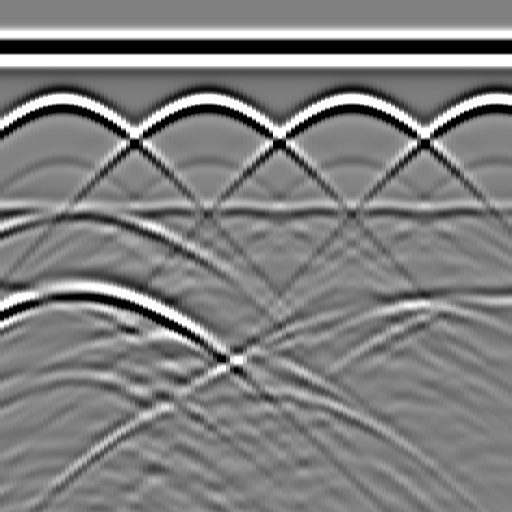grout_surface: (1, 195, 512, 225)
rebar: (41, 83, 81, 123), (185, 83, 225, 123), (329, 83, 369, 123), (473, 83, 512, 123)
rock_surface: (1, 288, 511, 391)
water_void: (44, 189, 104, 229)
